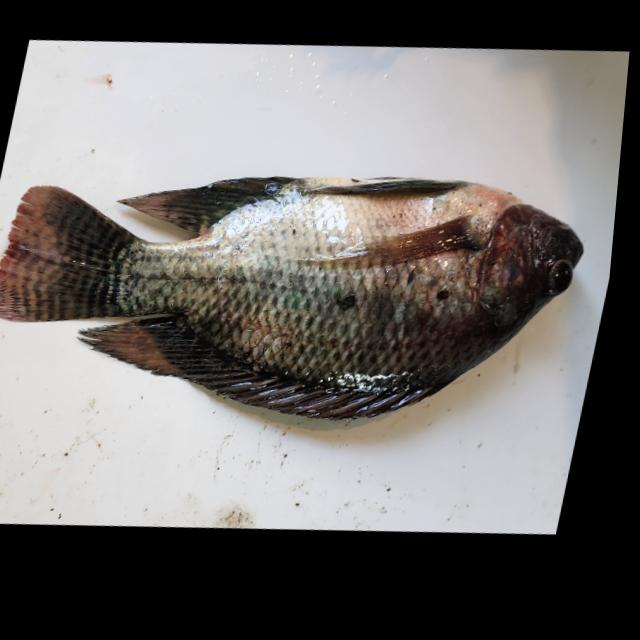Tilapia: (0, 109, 602, 486)
